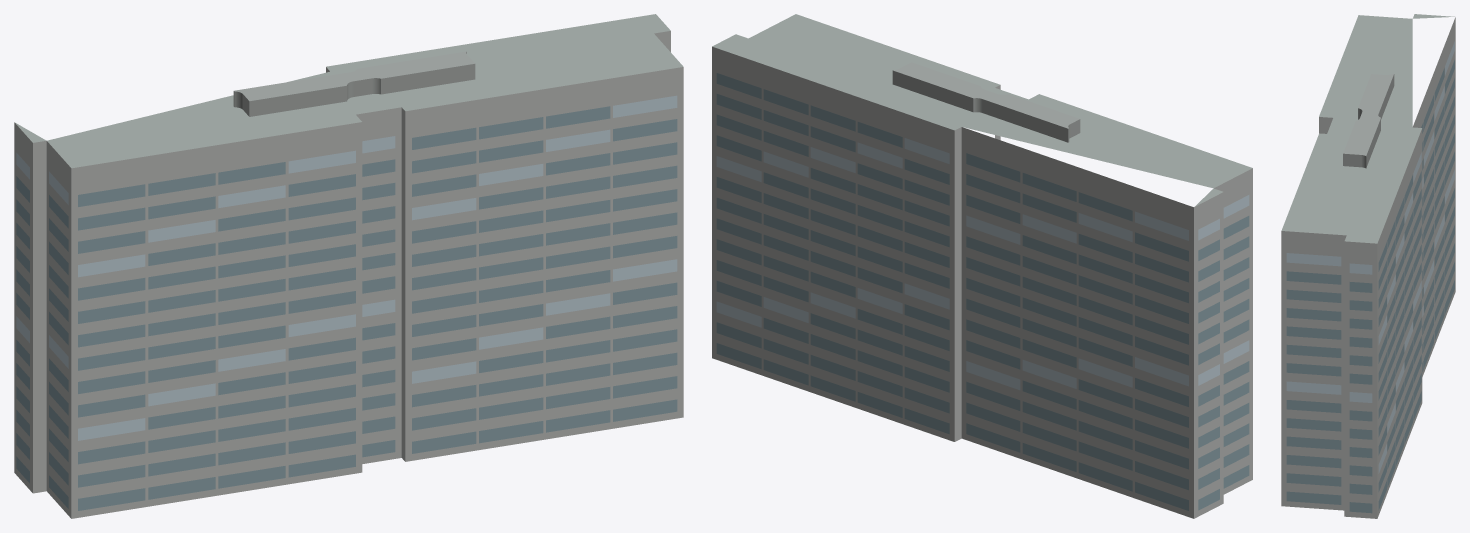
The model's file is apt-a13921003.glb.
3 renders of one model, left to right at view 1: azimuth 30°, elevation 25°; view 2: azimuth 150°, elevation 25°; view 3: azimuth 270°, elevation 25°, orthographic. The views are drawn at different scales.
Visible parts, largest first — view 1: apt-a13921003; view 2: apt-a13921003; view 3: apt-a13921003.
Boxes of the visible parts, x1,y1,x2,y2 form: apt-a13921003: [14, 14, 683, 518]; apt-a13921003: [712, 14, 1252, 518]; apt-a13921003: [1281, 14, 1455, 518].
Size of the model in its own units: 81.85 by 47.81 by 26.23.
